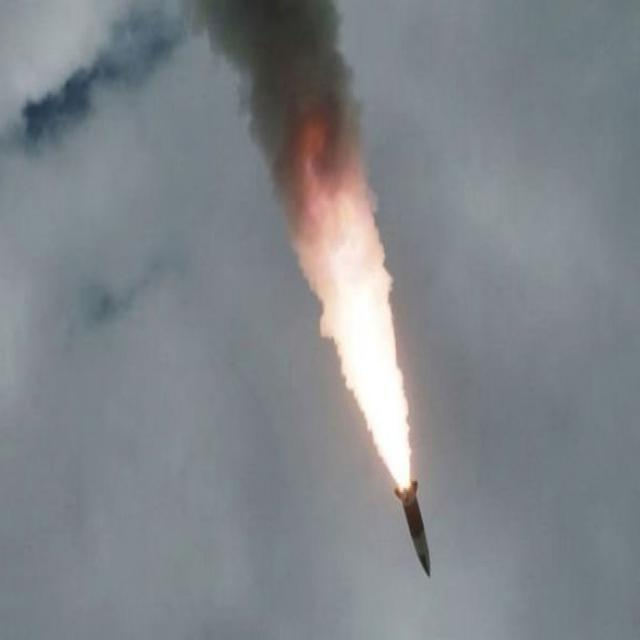missile: (385, 475, 439, 579)
